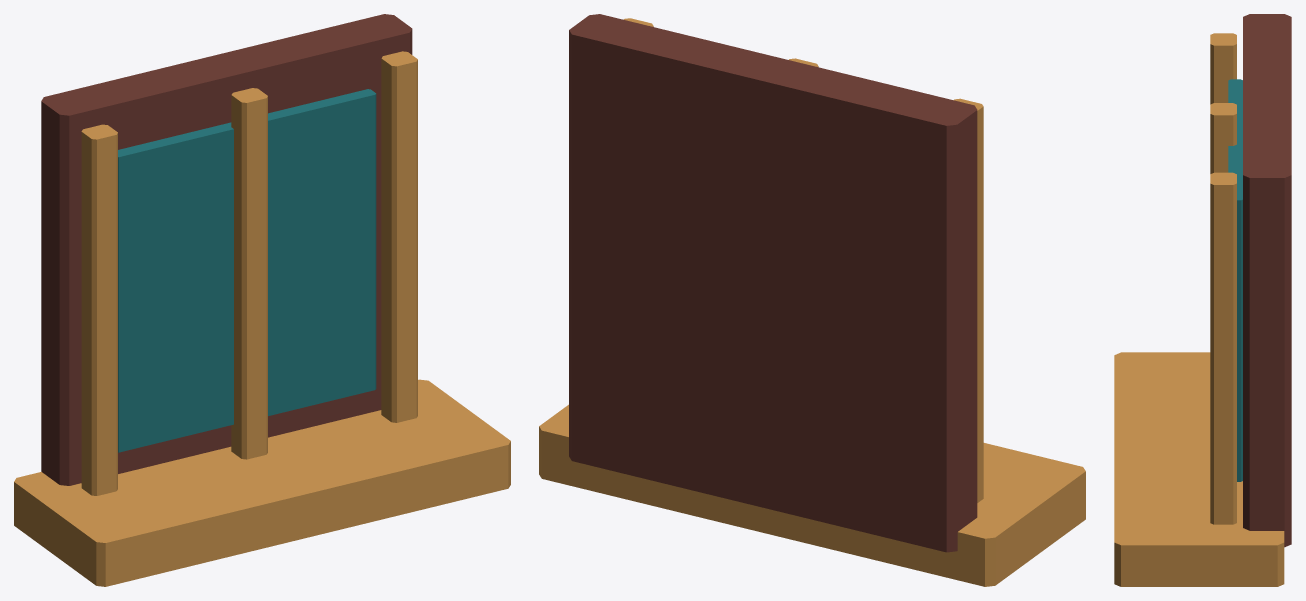
The model's file is Window.fbx.
3 renders of one model, left to right at view 1: azimuth 30°, elevation 25°; view 2: azimuth 150°, elevation 25°; view 3: azimuth 270°, elevation 25°, orthographic. The views are drawn at different scales.
Visible parts, largest first — view 1: Window.005; view 2: Window.005; view 3: Window.005.
Part boxes in pixels (box(x1,y1,x2,y2)): Window.005: box(14, 14, 510, 586); Window.005: box(539, 14, 1085, 586); Window.005: box(1114, 14, 1291, 586).
Bounding box in the file's own units: 94 × 89.75 × 36.5.
